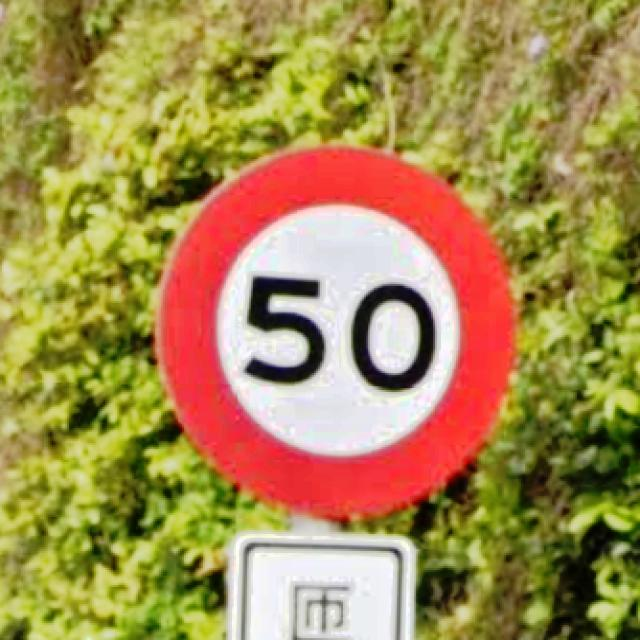max50: (152, 138, 522, 521)
